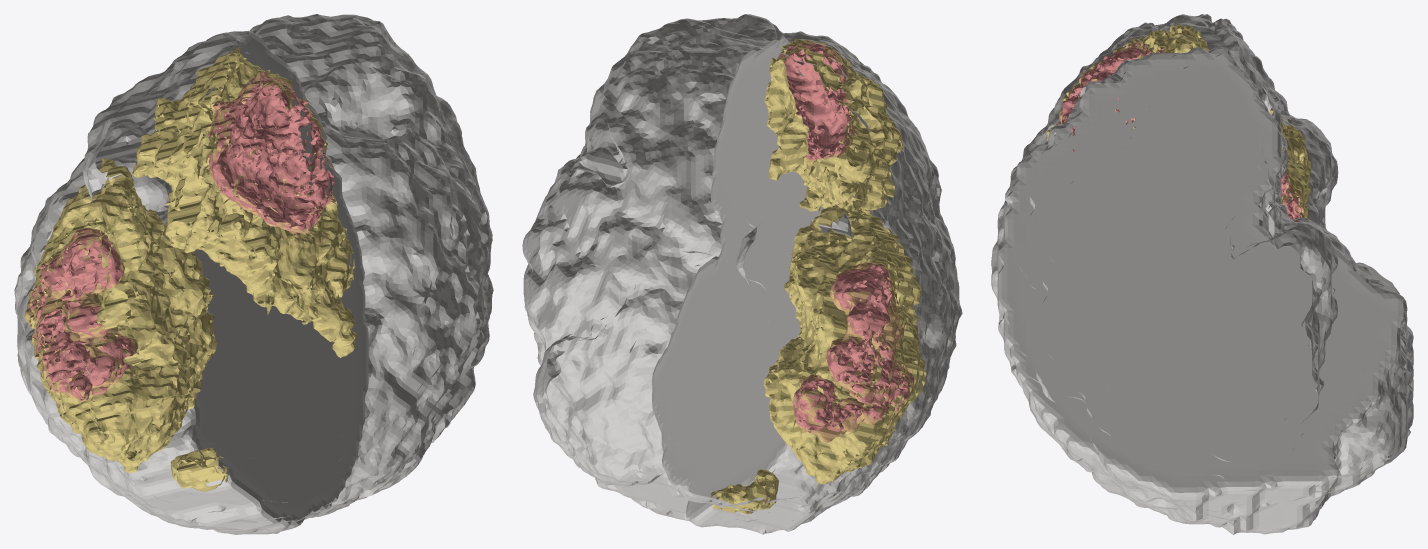
3 views of the same model, side by side, from view 1: azimuth 30°, elevation 25°; view 2: azimuth 150°, elevation 25°; view 3: azimuth 270°, elevation 25° (orthographic). The views are drawn at different scales.
Visible parts, largest first — view 1: brain_left, brain_right, edema, enhancing, core; view 2: brain_right, brain_left, edema, enhancing, core; view 3: brain_right, brain_left, edema, enhancing, core.
Boxes of the visible parts, x1,y1,x2,y2 form: brain_left: [14, 30, 368, 534]; brain_right: [249, 14, 493, 519]; edema: [24, 47, 357, 491]; enhancing: [31, 72, 335, 401]; core: [25, 71, 335, 401]; brain_right: [522, 14, 783, 520]; brain_left: [652, 31, 962, 534]; edema: [710, 39, 926, 514]; enhancing: [778, 42, 914, 432]; core: [778, 40, 914, 442]; brain_right: [997, 47, 1413, 534]; brain_left: [991, 14, 1413, 366]; edema: [1047, 23, 1311, 483]; enhancing: [1057, 42, 1304, 221]; core: [1058, 40, 1304, 217].
Size of the model in its own units: 144 by 160 by 134.
